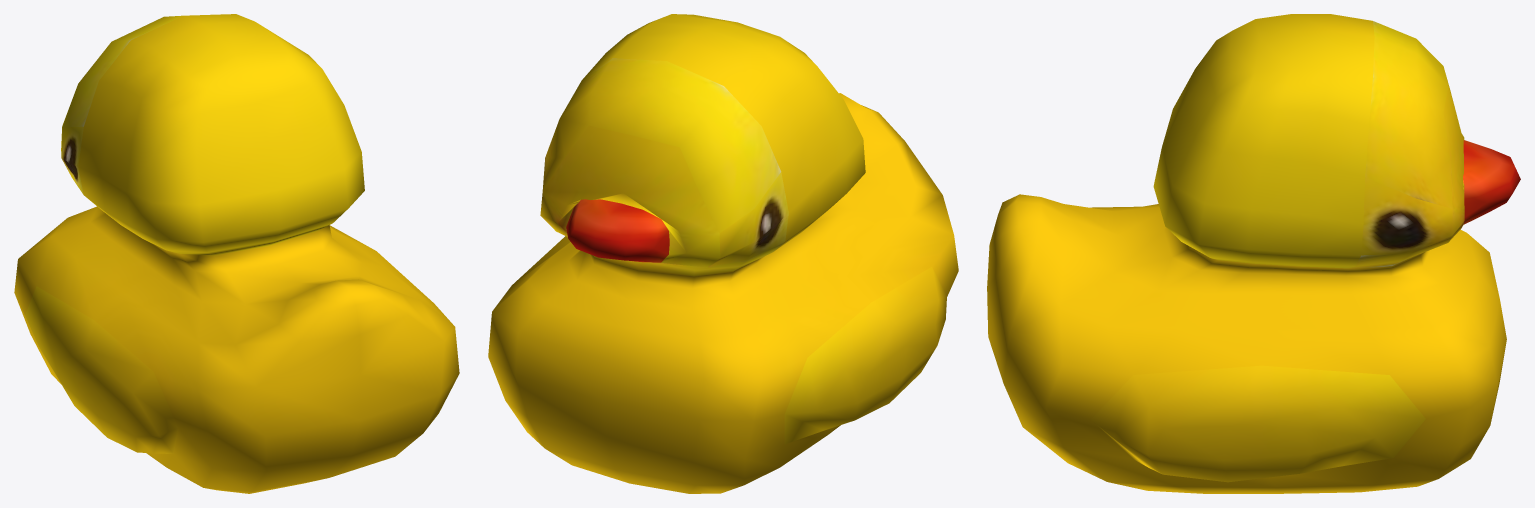
The model's file is Duck.glb.
The picture shows the model from 3 angles, left to right: view 1: azimuth 30°, elevation 25°; view 2: azimuth 150°, elevation 25°; view 3: azimuth 270°, elevation 25°; orthographic projection. The views are drawn at different scales.
Parts seen in each view (by area): view 1: Cube; view 2: Cube; view 3: Cube.
Part boxes in pixels (x1=…): Cube: x1=14, y1=14, x2=459, y2=493; Cube: x1=488, y1=14, x2=958, y2=493; Cube: x1=987, y1=14, x2=1520, y2=493.
Bounding box in the file's own units: 1.08 × 1.27 × 1.42.
Materials: 1 (1 with a texture image).
